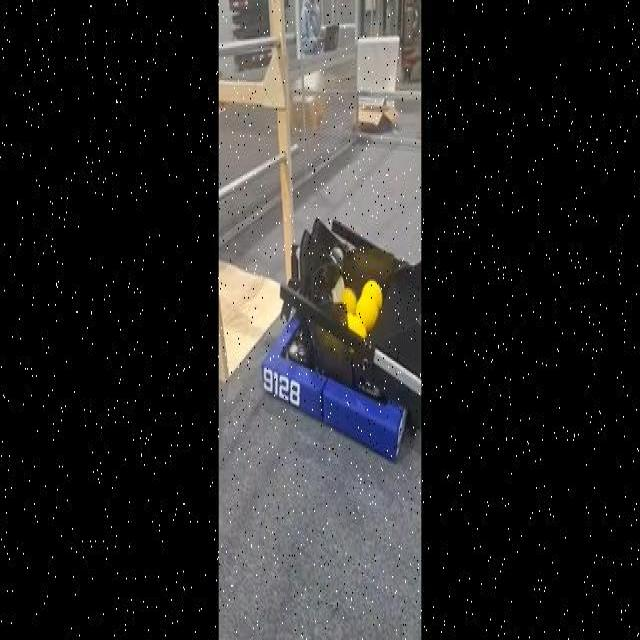Fuel: (356, 295, 377, 331), (361, 279, 382, 309), (347, 312, 368, 340), (347, 313, 366, 338), (340, 288, 356, 313)
